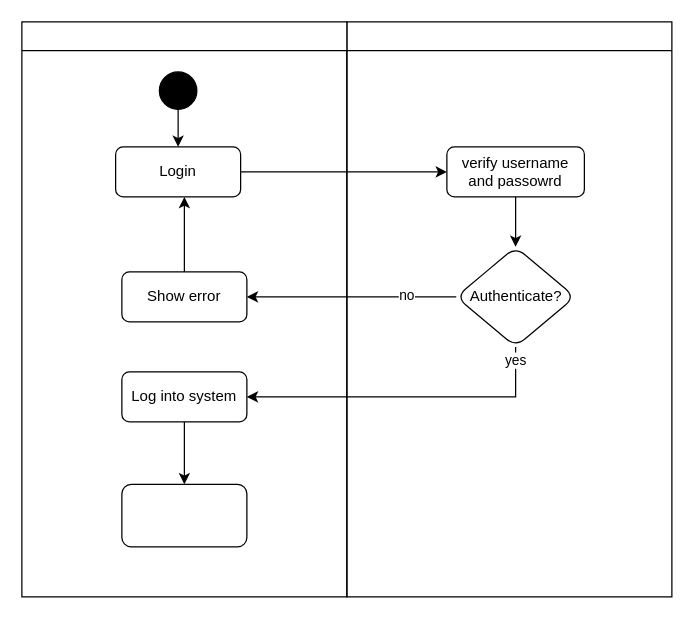
This 694x619 diagram has some shape labels left out. The box of each missing label's shape, as (x1, y1, x2, y2) in pixels:
Client: (21, 21, 347, 597)
Show content based on user authorization: (121, 483, 247, 547)
System: (346, 21, 672, 597)
